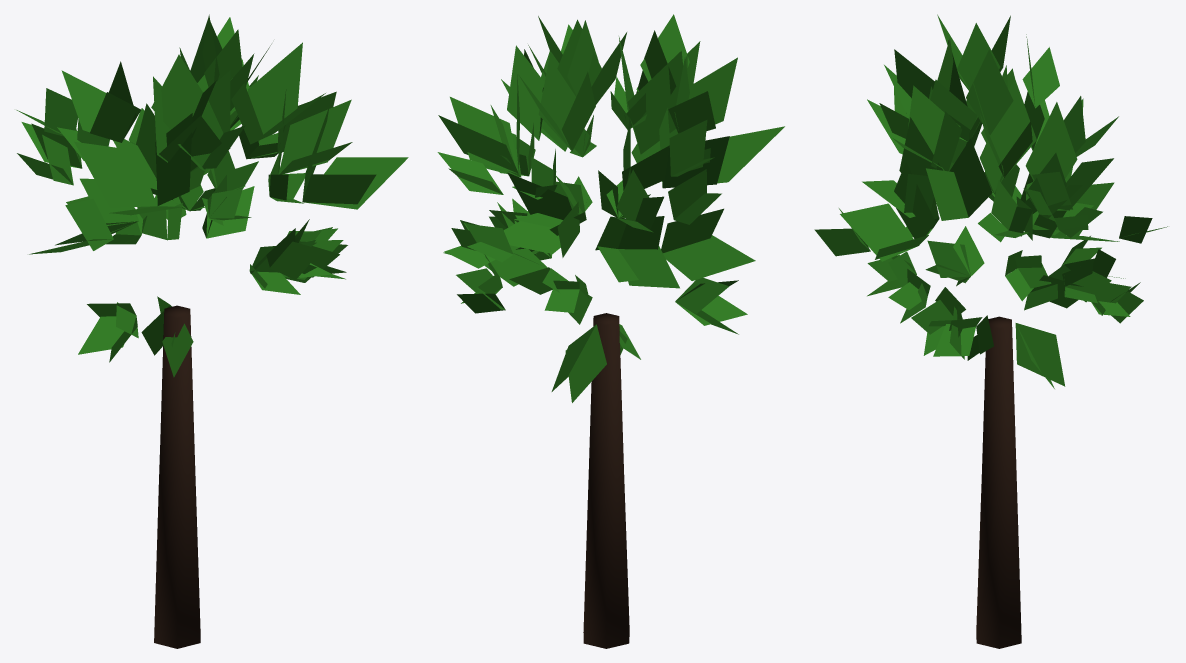
Rendered from Tree_05_A_LOD2.obj.
3 renders of one model, left to right at view 1: azimuth 30°, elevation 25°; view 2: azimuth 150°, elevation 25°; view 3: azimuth 270°, elevation 25°, orthographic. The views are drawn at different scales.
Parts seen in each view (by area): view 1: Leaves, Trunk; view 2: Leaves, Trunk; view 3: Leaves, Trunk.
Boxes of the visible parts, box(x1,y1,x2,y2) form: Leaves: box(16, 14, 408, 377); Trunk: box(154, 305, 200, 648); Leaves: box(437, 14, 784, 402); Trunk: box(583, 313, 629, 648); Leaves: box(814, 14, 1167, 388); Trunk: box(976, 316, 1021, 648).
Size of the model in its own units: 3.1 by 5.72 by 3.08.
